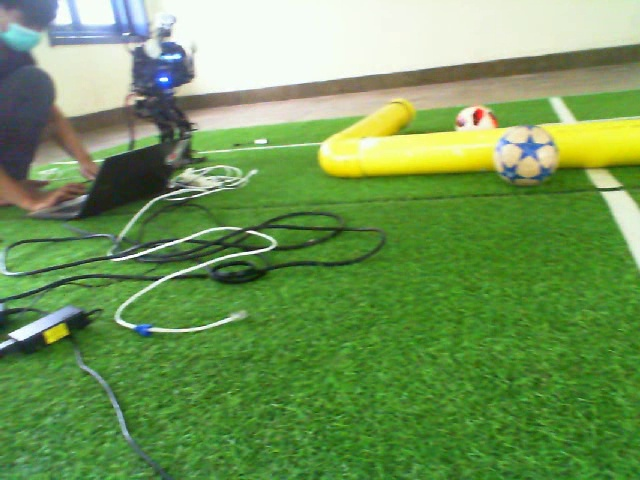ball: (492, 123, 562, 190), (453, 104, 492, 132)
